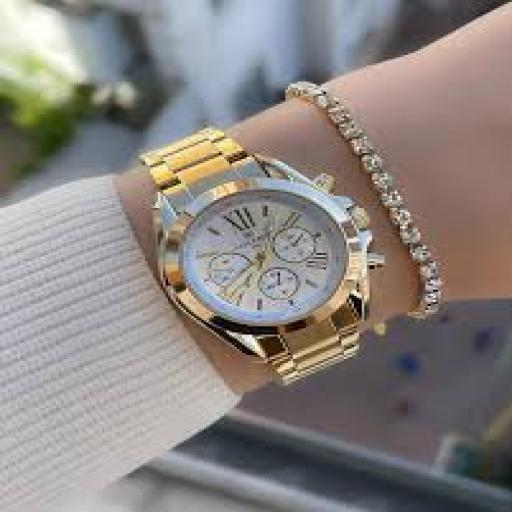KolSaati: (102, 106, 388, 401)
